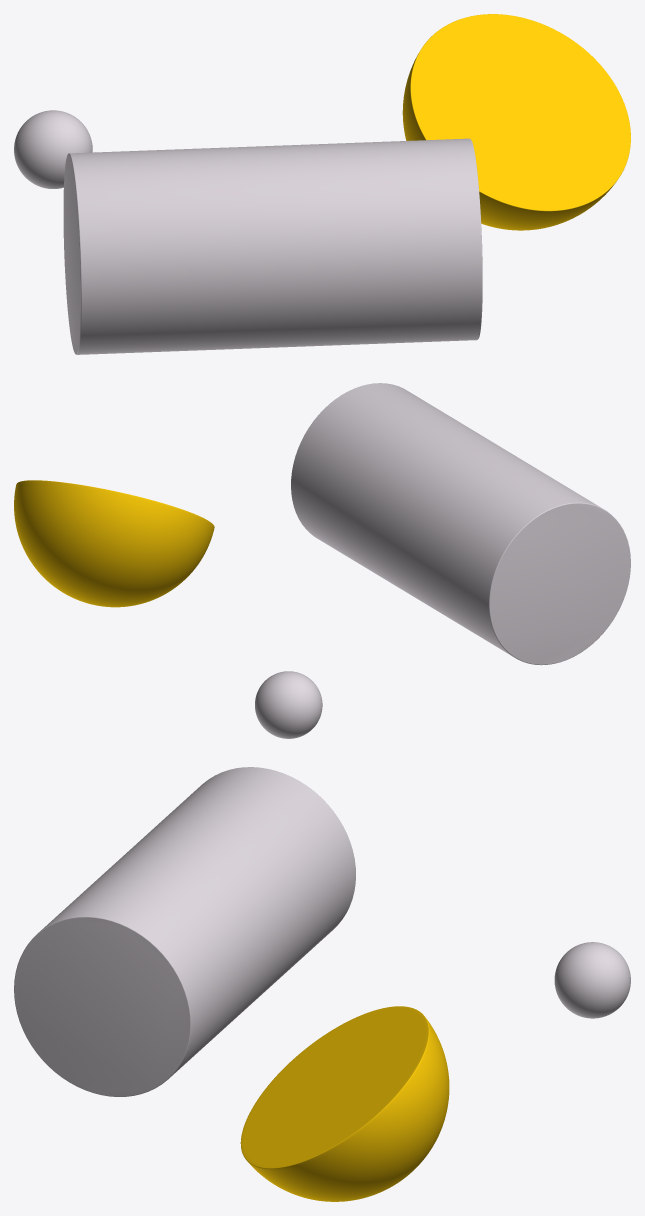
The picture shows the model from 3 angles, top to bottom: view 1: azimuth 30°, elevation 25°; view 2: azimuth 150°, elevation 25°; view 3: azimuth 270°, elevation 25°; orthographic projection. The views are drawn at different scales.
Parts seen in each view (by area): view 1: Extrude_CYLINDER_L_01_1, HALF_SPHERE_03, SPHERE_01; view 2: Extrude_CYLINDER_L_01_1, HALF_SPHERE_03, SPHERE_01; view 3: Extrude_CYLINDER_L_01_1, HALF_SPHERE_03, SPHERE_01.
Boxes of the visible parts, x1,y1,x2,y2 form: Extrude_CYLINDER_L_01_1: [63, 138, 482, 354]; HALF_SPHERE_03: [402, 14, 630, 230]; SPHERE_01: [14, 110, 92, 188]; Extrude_CYLINDER_L_01_1: [291, 383, 630, 665]; HALF_SPHERE_03: [14, 480, 214, 607]; SPHERE_01: [255, 671, 322, 738]; Extrude_CYLINDER_L_01_1: [14, 767, 355, 1096]; HALF_SPHERE_03: [240, 1006, 449, 1201]; SPHERE_01: [554, 942, 630, 1018].
Size of what is drawn, in the model's own units: 10.93 by 3.36 by 9.69.
